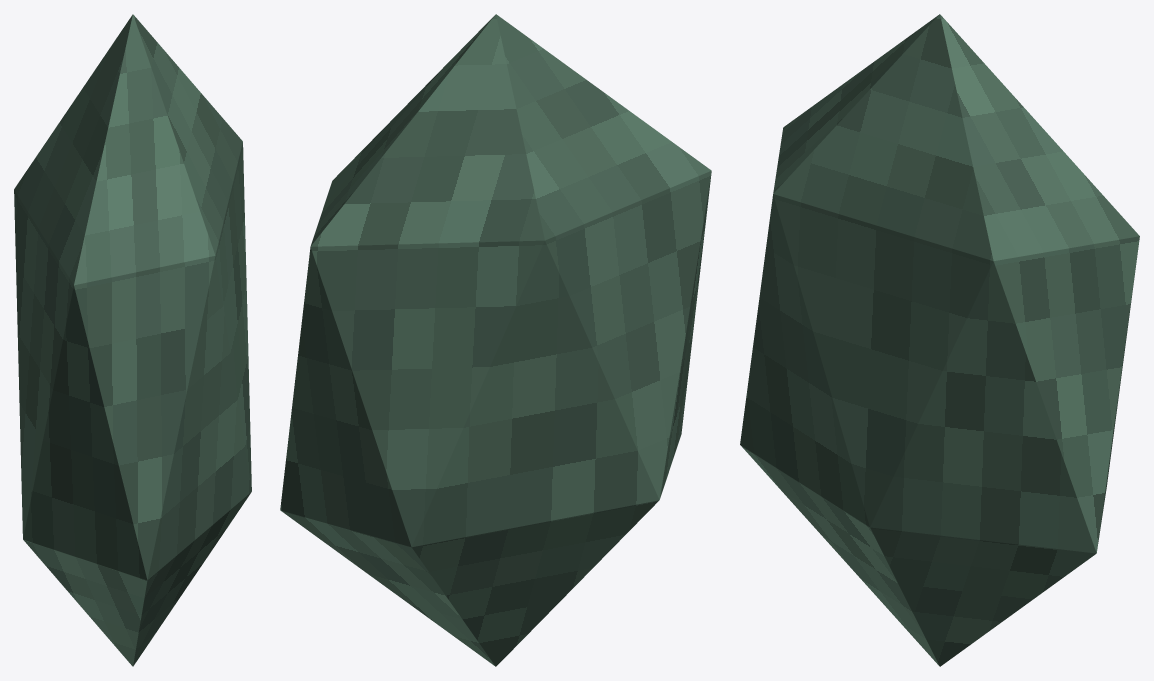
Rendered from rock_33.glb.
The picture shows the model from 3 angles, left to right: view 1: azimuth 30°, elevation 25°; view 2: azimuth 150°, elevation 25°; view 3: azimuth 270°, elevation 25°; orthographic projection.
Parts seen in each view (by area): view 1: WeatheredStone; view 2: WeatheredStone; view 3: WeatheredStone.
Boxes of the visible parts, <box> form: WeatheredStone: <box>14,14,251,666</box>; WeatheredStone: <box>280,14,711,666</box>; WeatheredStone: <box>740,14,1139,666</box>.
Size of the model in its own units: 1.25 by 2.84 by 1.58.
1 material, 1 textured.
